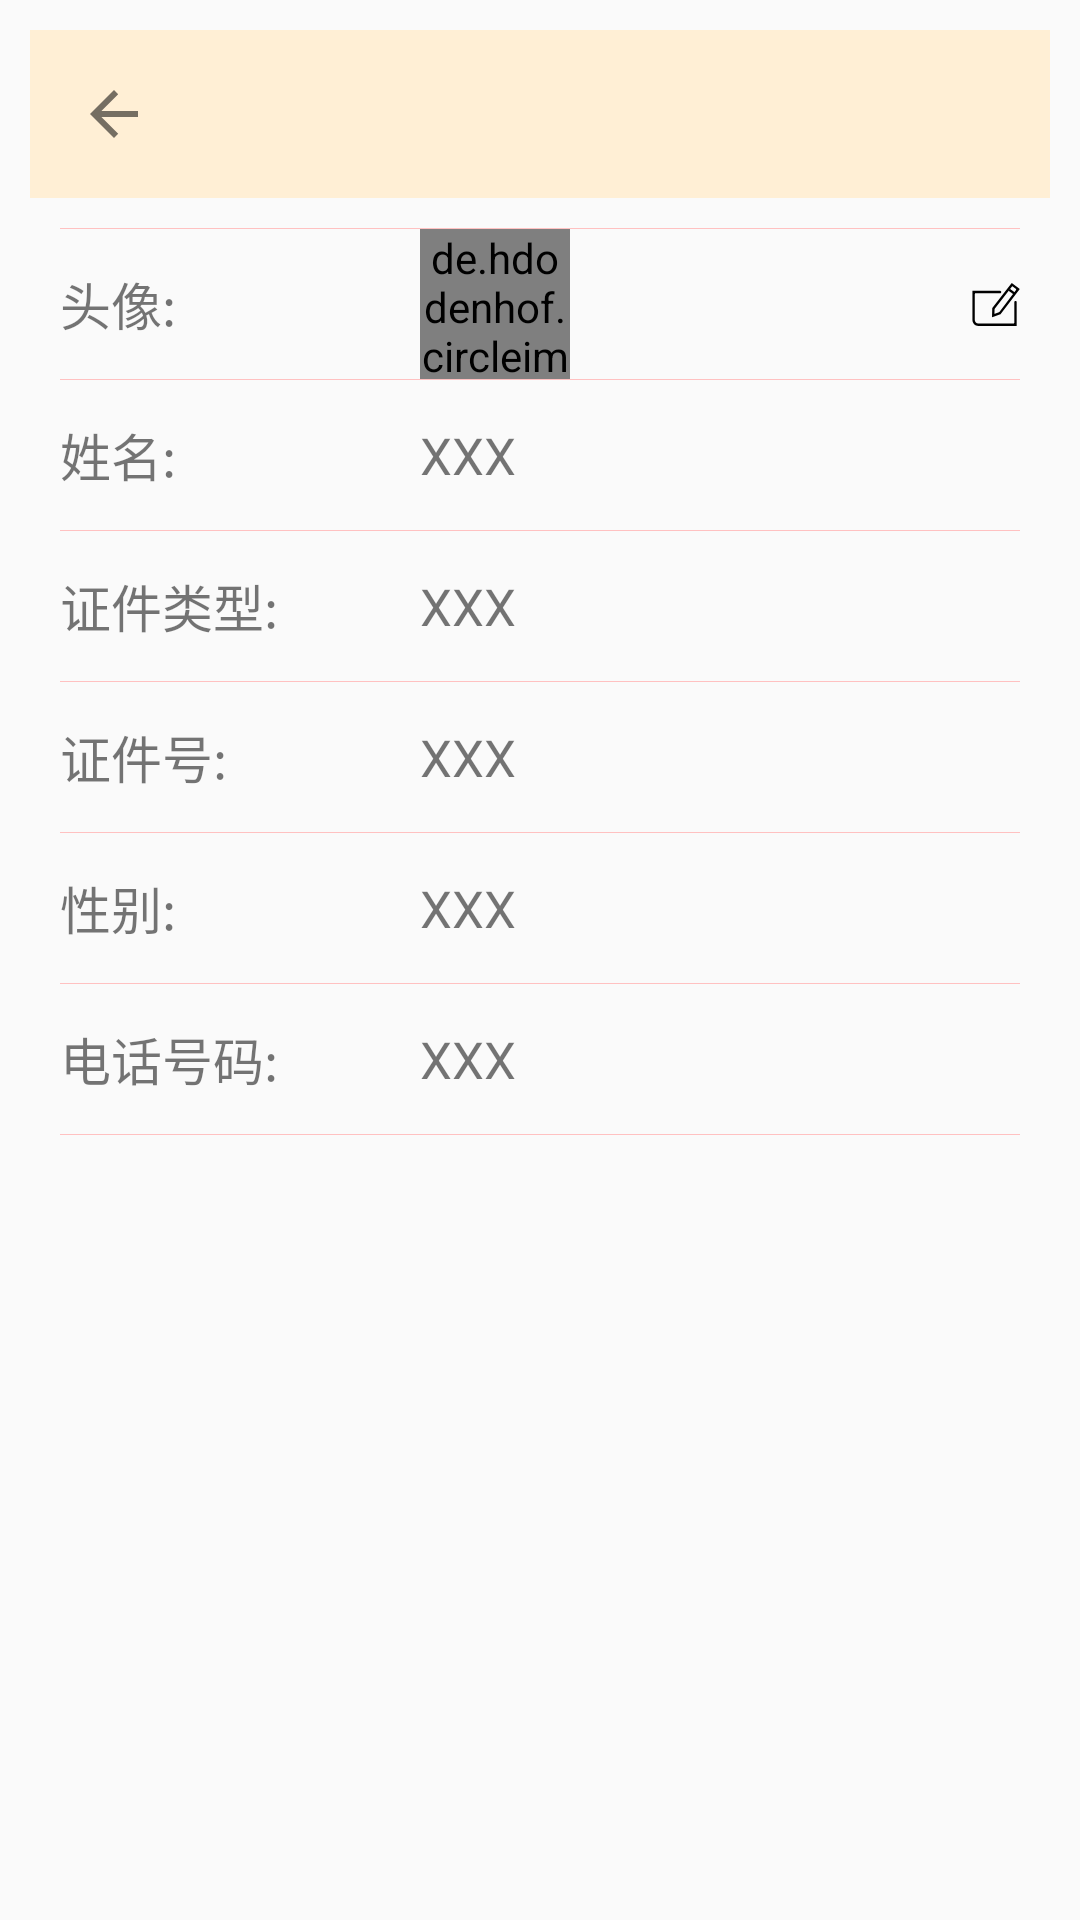

Screen size 1080w x 1920h. Icon name, then its box in pixels as [x1=x1, y1=y1, x2=x2, y2=y2]:
edit: [x1=972, y1=283, x2=1020, y2=326]
